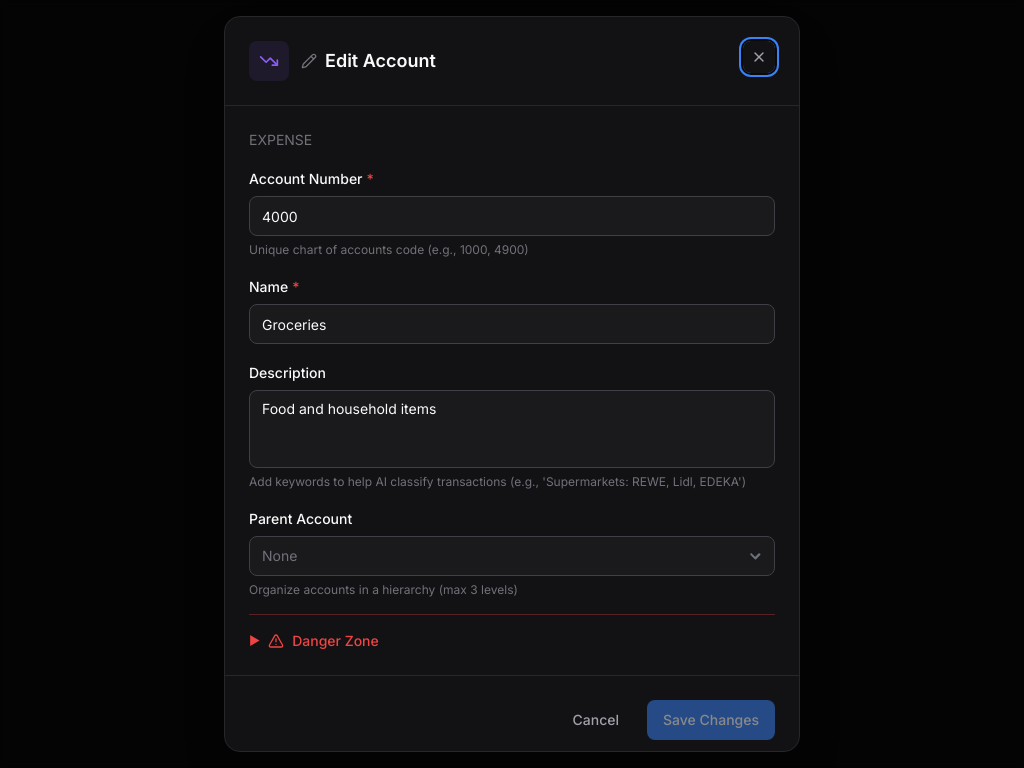
Test: AccountEditModal › form validation › enables save button when name is changed
Replace the text in the field showing "Groceries" with "New Name" at (512, 324), box x1=249 y1=304 x2=775 y2=344
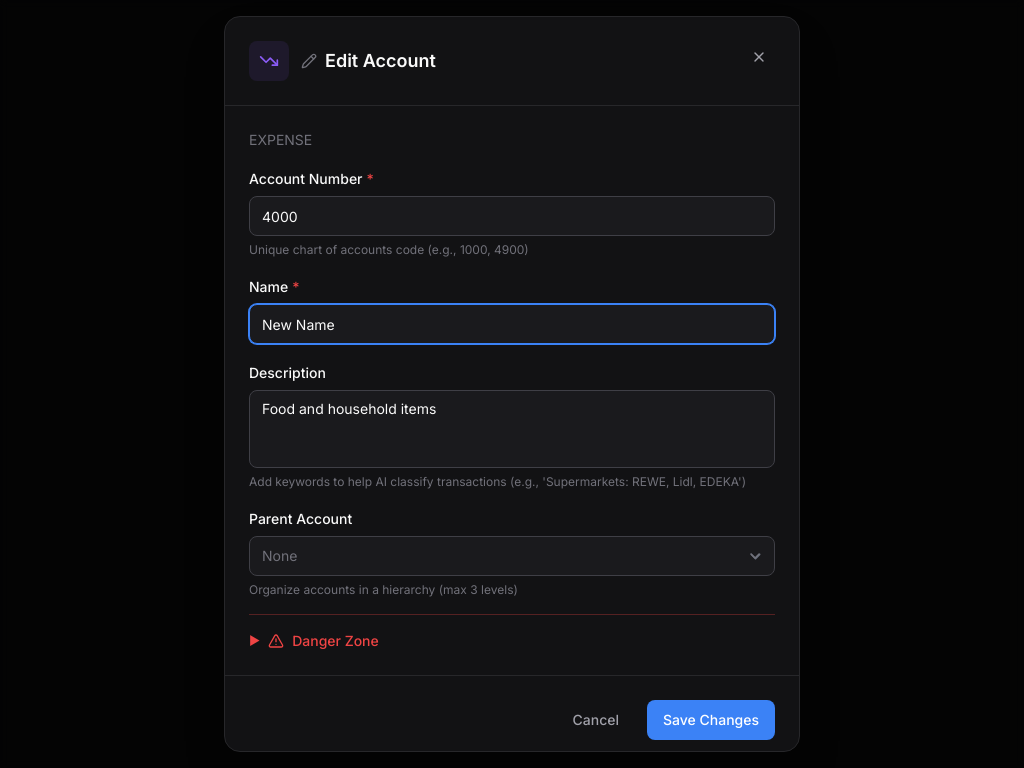
Expected: the button "Save Changes" is enabled, x1=647 y1=700 x2=775 y2=740
